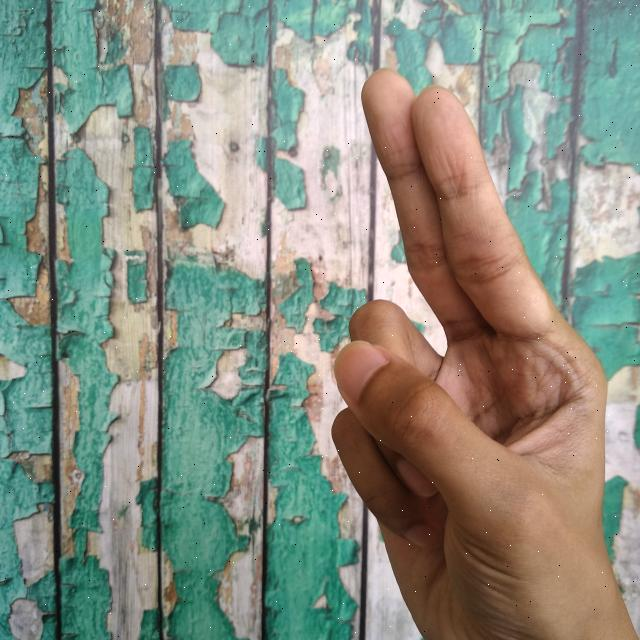U: (323, 59, 631, 640)
